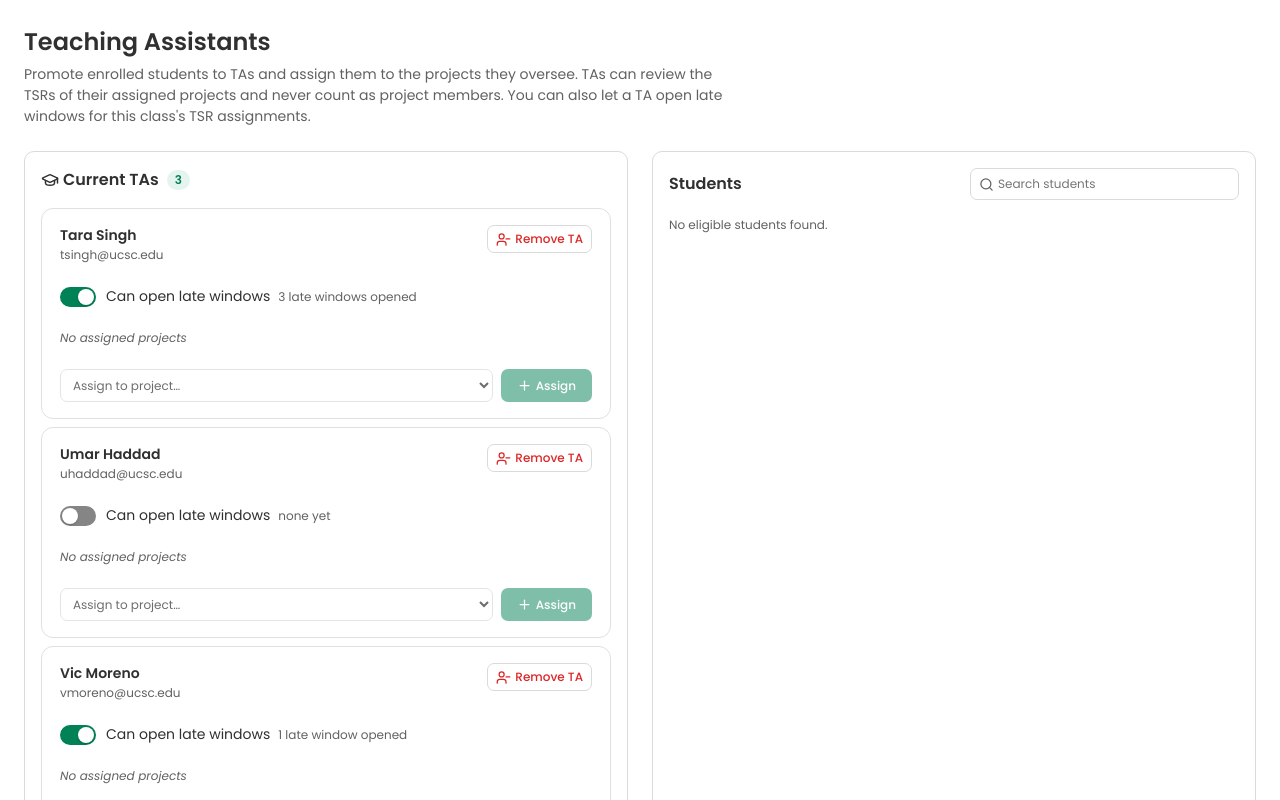
Test case: TA Management: the late-window permission › shows a refused change in the alert box and does not load the TAs again
Check: the text "Tara Singh" is shown, box [60,225,136,245]
Click the switch labelled "Can open late windows" next to "none yet". click: (165, 516)
box: [60,505,270,526]
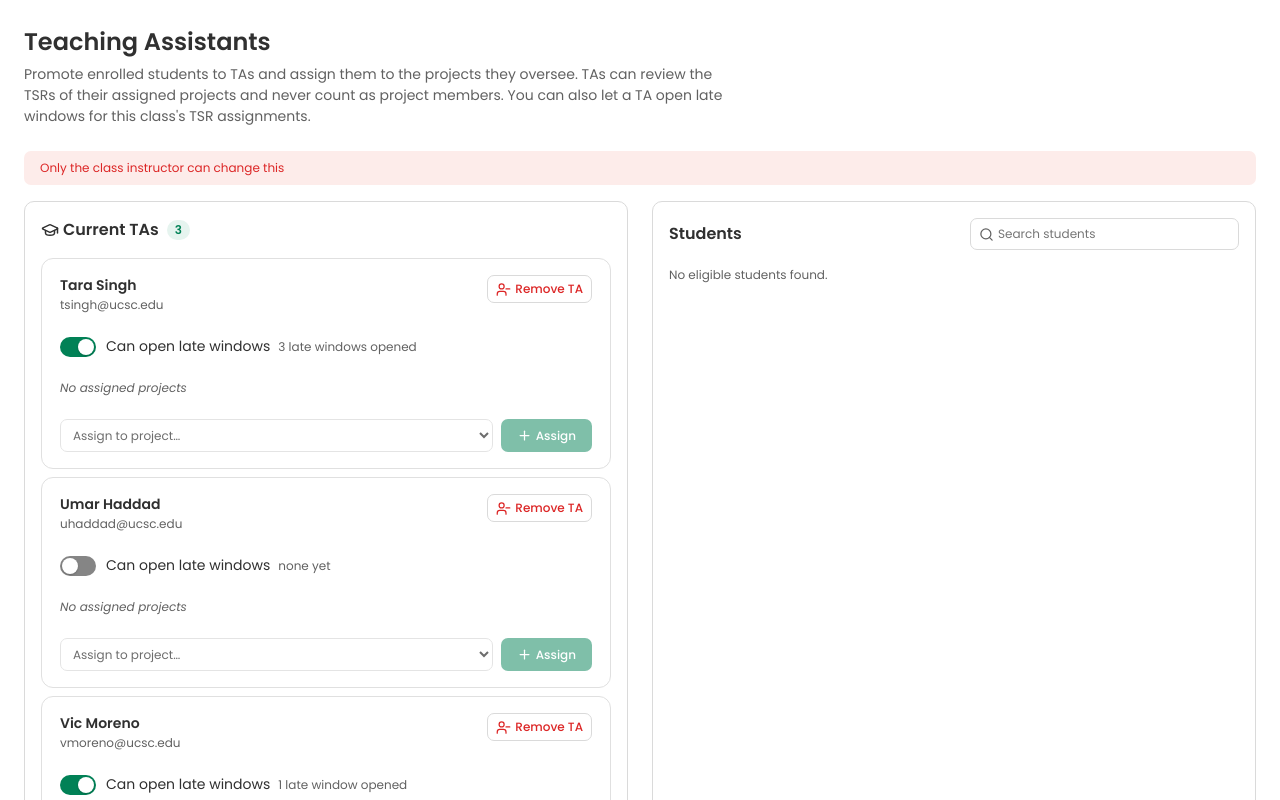
Check: the switch labelled "Can open late windows" next to "none yet" is not checked, box [60,555,270,576]
Check: the message reads "Only the class instructor can change this", box [40,159,284,176]
